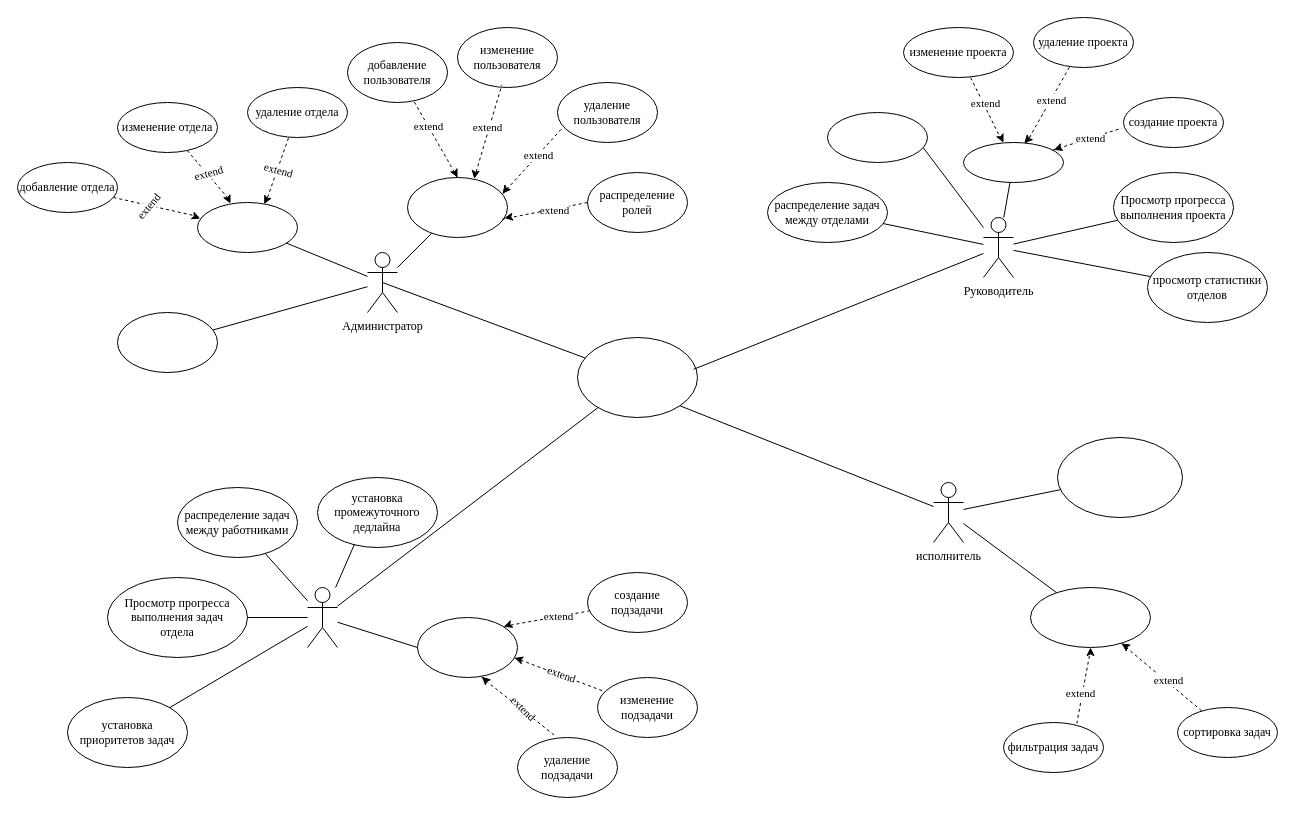
Image size: 1295x815. Some labels were removed from this diagram. The centre of each missing label's shape, as x and y in pixels:
"аунтефикация" belongs at pixel 637 377.
"изменение статуса задачи" belongs at pixel 1119 477.
"мониторинг системы" belongs at pixel 167 342.
"Начальник отдела" belongs at pixel 322 617.
"Просмотр своих задач" belongs at pixel 1090 617.
"управление отделами" belongs at pixel 247 227.
"управление подзадачами" belongs at pixel 467 647.
"управление пользователями" belongs at pixel 457 207.
"управление проектом" belongs at pixel 1013 162.
"установка дедлайна" belongs at pixel 877 137.
